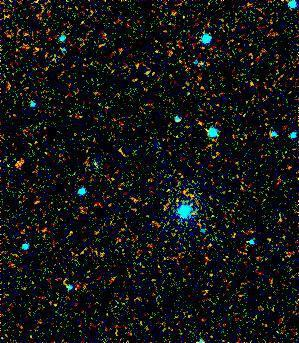star: (7, 148, 37, 178)
